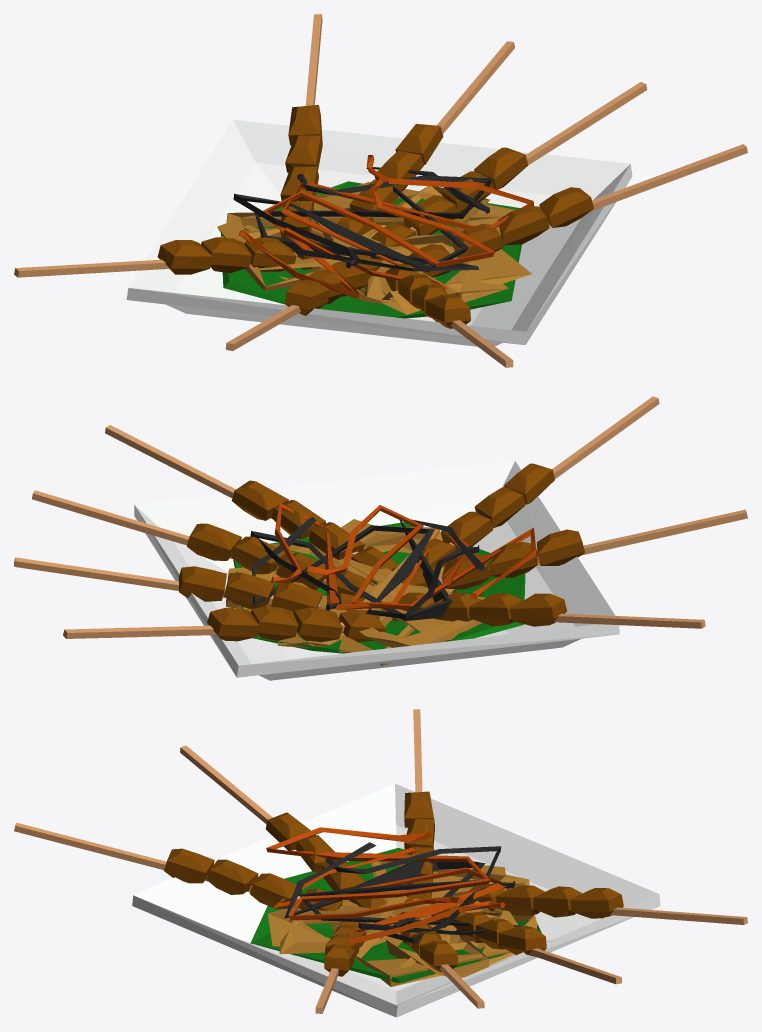
The model's file is yakitori.glb.
3 views of the same model, one above another, from view 1: azimuth 30°, elevation 25°; view 2: azimuth 150°, elevation 25°; view 3: azimuth 270°, elevation 25° (orthographic). The views are drawn at different scales.
Visible parts, largest first — view 1: Object_16, Object_6, Object_78, Object_4, Object_84, Object_80, Object_14; view 2: Object_16, Object_6, Object_4, Object_78, Object_80, Object_84, Object_14; view 3: Object_16, Object_6, Object_78, Object_84, Object_4, Object_80, Object_14.
Part boxes in pixels (x1=…): Object_16: x1=126, y1=119, x2=632, y2=346; Object_6: x1=157, y1=105, x2=593, y2=328; Object_78: x1=217, y1=182, x2=531, y2=314; Object_4: x1=14, y1=14, x2=747, y2=367; Object_84: x1=239, y1=155, x2=533, y2=298; Object_80: x1=233, y1=167, x2=491, y2=272; Object_14: x1=221, y1=181, x2=521, y2=318; Object_16: x1=134, y1=460, x2=619, y2=680; Object_6: x1=178, y1=463, x2=584, y2=642; Object_4: x1=14, y1=396, x2=747, y2=638; Object_78: x1=226, y1=519, x2=485, y2=665; Object_80: x1=250, y1=517, x2=484, y2=621; Object_84: x1=271, y1=502, x2=535, y2=609; Object_14: x1=233, y1=522, x2=525, y2=653; Object_16: x1=132, y1=783, x2=660, y2=1017; Object_6: x1=164, y1=791, x2=623, y2=976; Object_78: x1=267, y1=861, x2=537, y2=986; Object_84: x1=266, y1=827, x2=506, y2=944; Object_4: x1=14, y1=709, x2=747, y2=1013; Object_80: x1=284, y1=842, x2=521, y2=943; Object_14: x1=250, y1=848, x2=541, y2=983.
Bounding box in the file's own units: 0.9629 × 0.1442 × 1.
